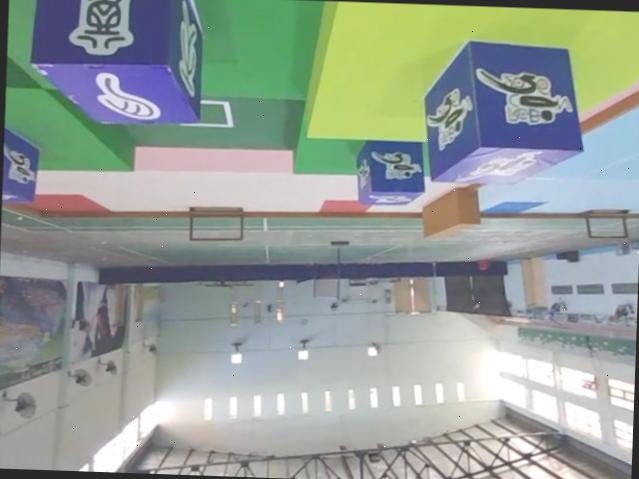R1 Blue: (423, 36, 588, 185), (354, 139, 427, 208), (1, 123, 39, 204)
R2 Fake Blue: (29, 0, 206, 126)
